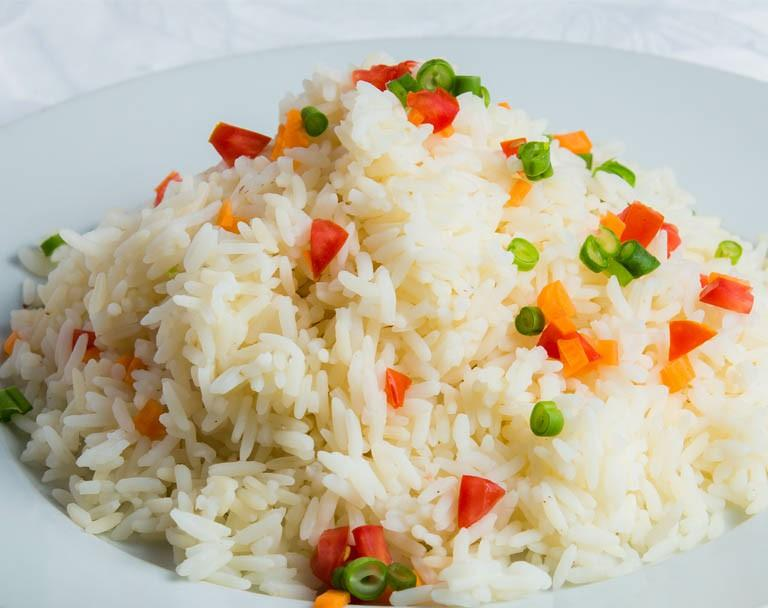WhiteRice: (0, 53, 768, 608)
